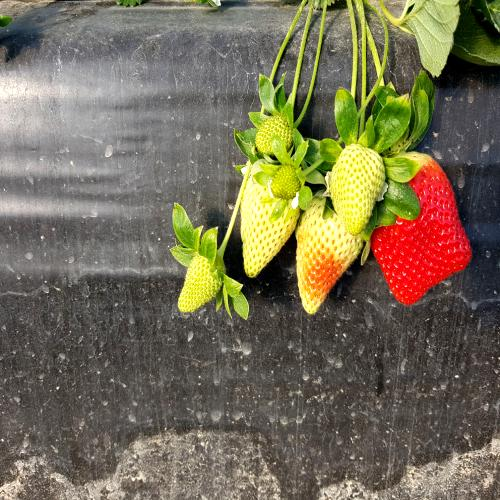partially-ripe: (294, 182, 366, 320)
ripe: (378, 136, 474, 322)
